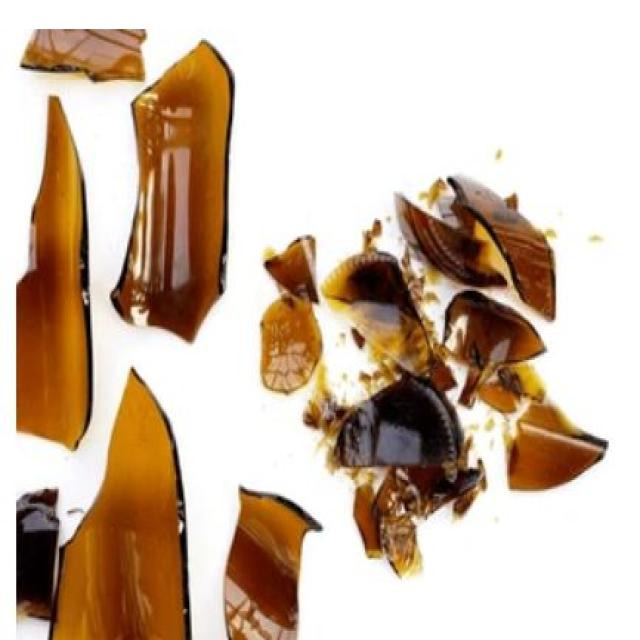electronic: (1, 23, 611, 640)
